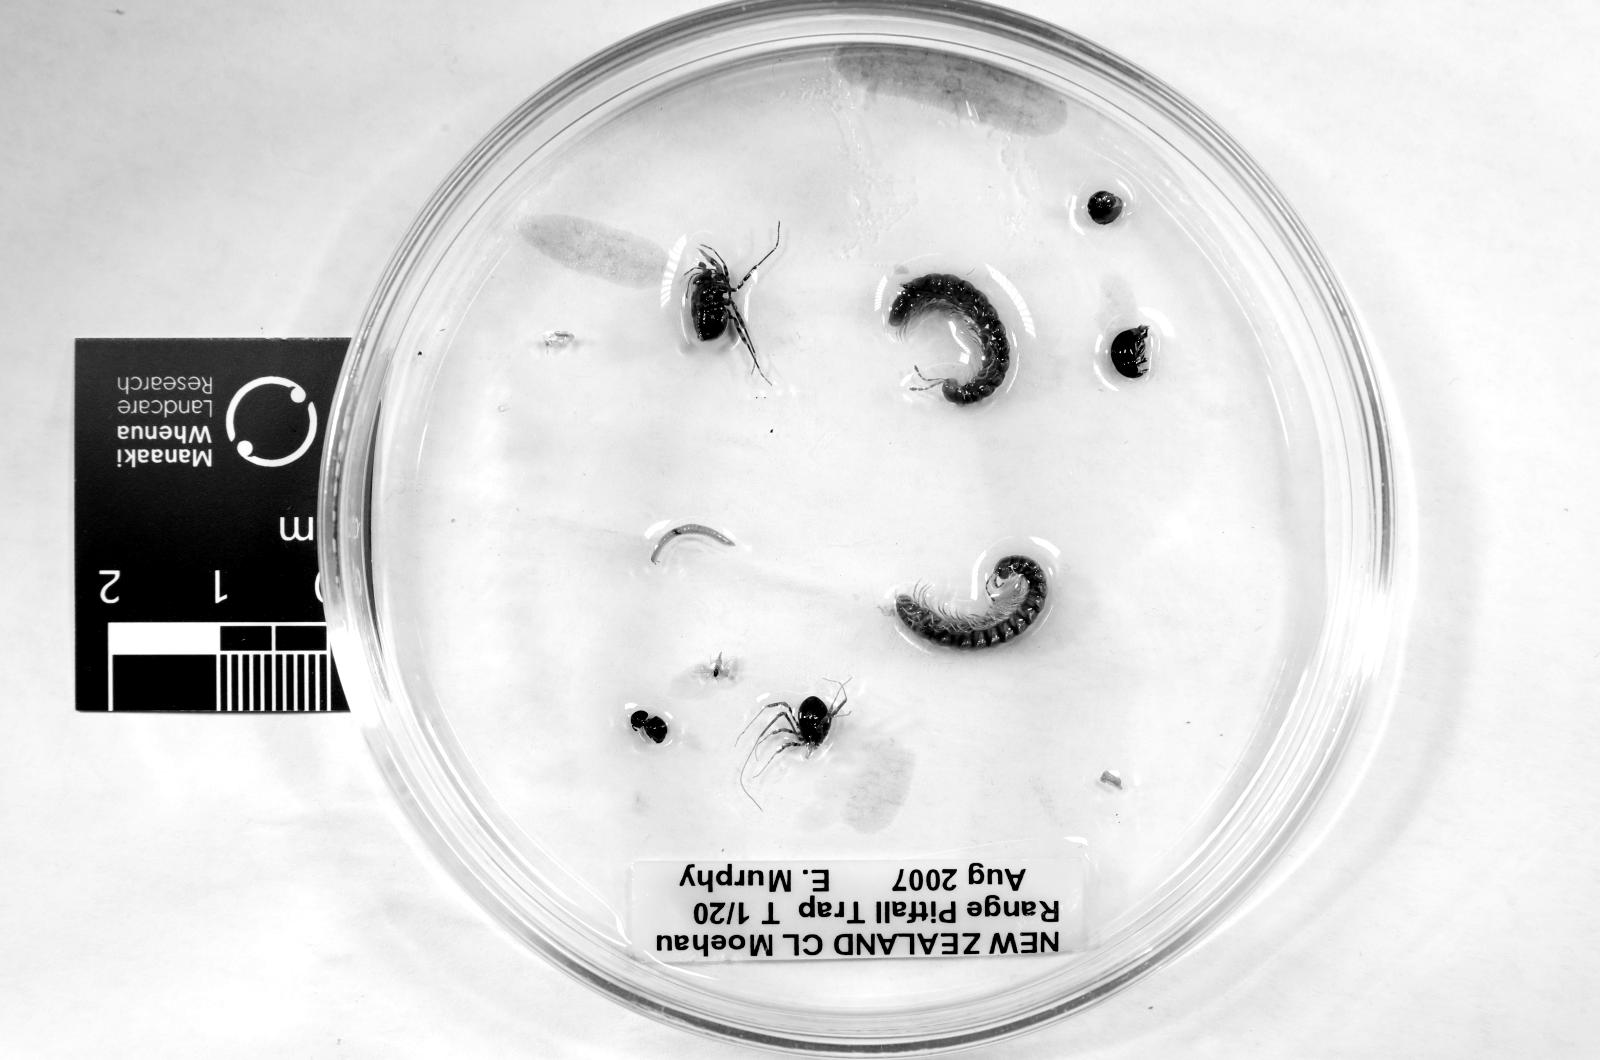coleoptera: (1109, 327, 1149, 379), (631, 711, 669, 742)
coleoptera_larva: (650, 525, 734, 562)
diplopoda: (887, 273, 1010, 403), (894, 556, 1047, 649)
diptera: (694, 652, 734, 680)
gastropoda: (1088, 189, 1125, 224)
opiliones: (681, 245, 759, 373), (753, 684, 847, 757)
